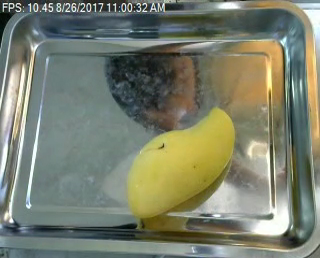Mango: (126, 106, 238, 225)
